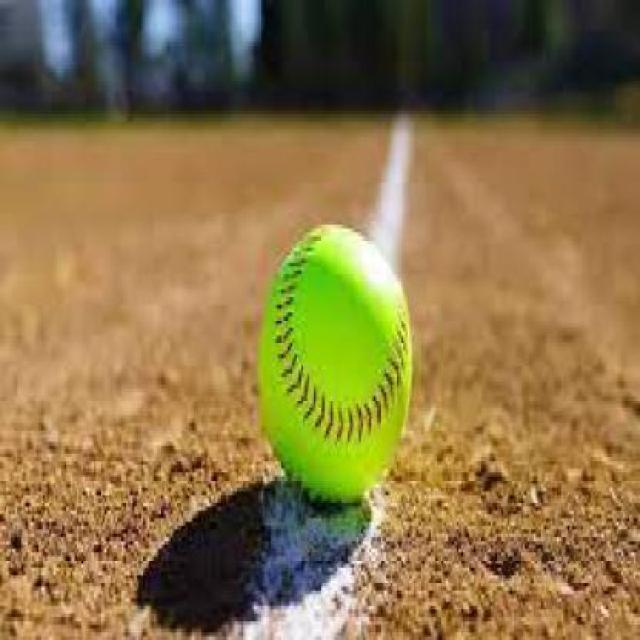-: (258, 199, 429, 510)
